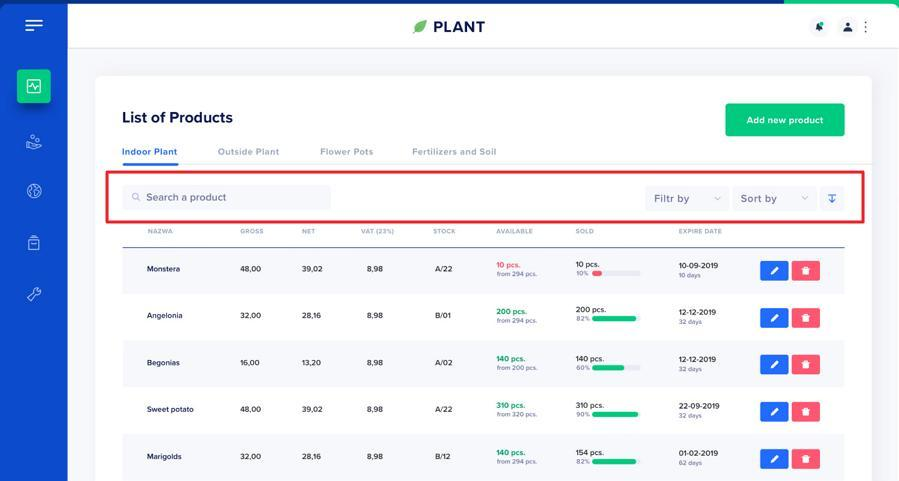button: (726, 105, 845, 137)
dropdown: (643, 185, 731, 214), (733, 185, 818, 215)
icon: (21, 132, 49, 161), (22, 178, 48, 204), (761, 448, 790, 471), (761, 309, 792, 330), (760, 261, 790, 282), (760, 403, 790, 424), (793, 261, 822, 282), (792, 402, 821, 423), (792, 308, 822, 328), (760, 356, 790, 375), (793, 449, 821, 469), (793, 356, 822, 375), (24, 286, 45, 310), (24, 17, 48, 37), (24, 233, 46, 254), (862, 18, 875, 39), (813, 20, 829, 37), (842, 20, 858, 37)
table: (125, 224, 847, 481)
